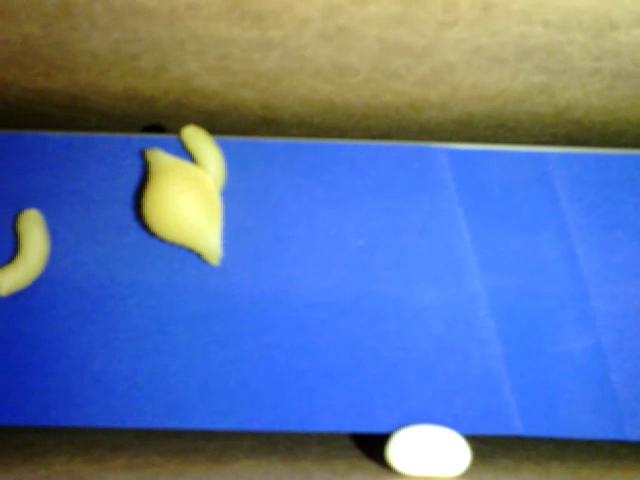elbow: (1, 207, 51, 297), (178, 122, 227, 192)
shell: (141, 146, 224, 267)
